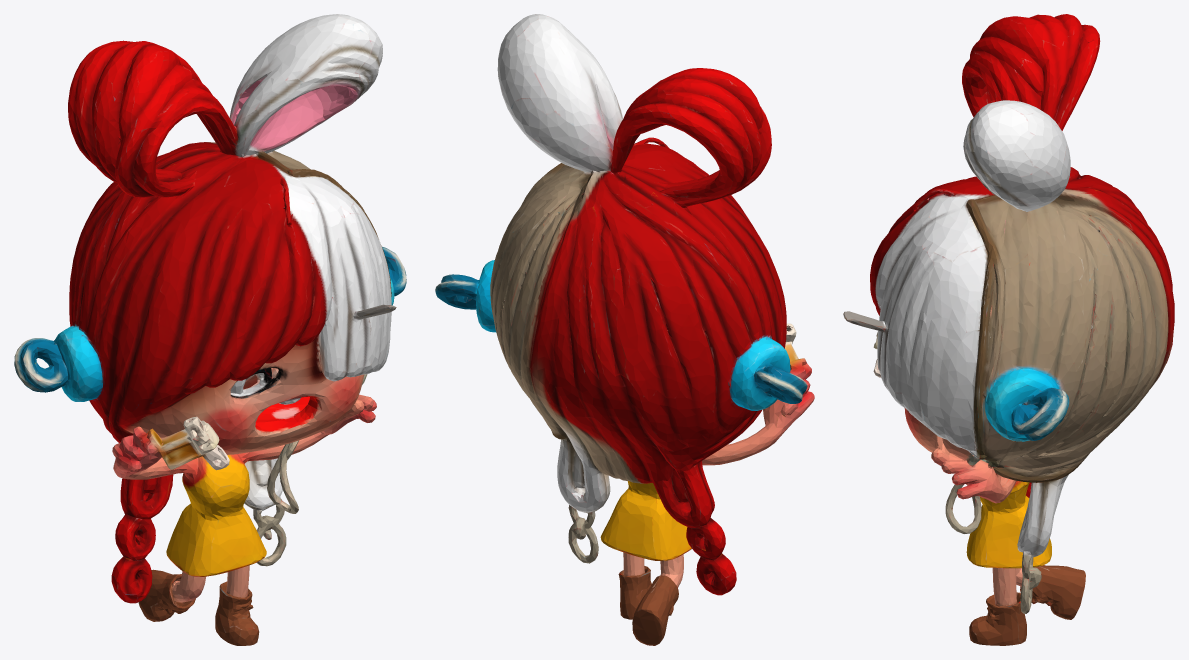
File: AnimePistol_Textured_10301.glb
3 views of the same model, side by side, from view 1: azimuth 30°, elevation 25°; view 2: azimuth 150°, elevation 25°; view 3: azimuth 270°, elevation 25° (orthographic). The views are drawn at different scales.
Parts seen in each view (by area): view 1: world; view 2: world; view 3: world.
Boxes of the visible parts, <box> form: world: <box>14,14,406,645</box>; world: <box>435,14,814,645</box>; world: <box>843,14,1174,645</box>.
Bounding box in the file's own units: 0.6688 × 1 × 0.5132.
1 material, 1 textured.
